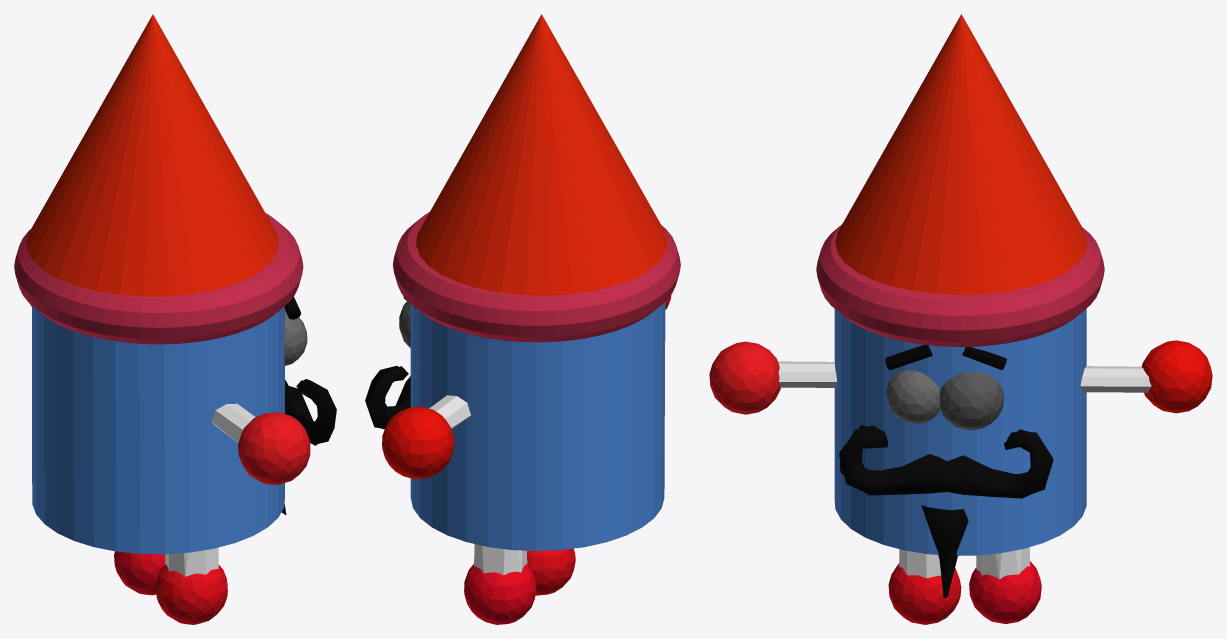
The model's file is гном цвет 1.fbx.
The picture shows the model from 3 angles, left to right: view 1: azimuth 30°, elevation 25°; view 2: azimuth 150°, elevation 25°; view 3: azimuth 270°, elevation 25°; orthographic projection.
Parts seen in each view (by area): view 1: Цилиндр, Конус, Тор.001, Сфера, Сфера.002, node_id30, Сфера.003, Цилиндр.002, Цилиндр.001, Сфера.004; view 2: Цилиндр, Конус, Тор.001, Сфера.001, Сфера.003, node_id30, Сфера.002, Цилиндр.003, Цилиндр.006; view 3: Конус, Цилиндр, Тор.001, node_id30, Сфера, Сфера.001, Сфера.003, Сфера.005, Сфера.002, Сфера.004, Цилиндр.006, Цилиндр.001 (+2 smaller).
Boxes of the visible parts, <box> form: Цилиндр: <box>32,306,284,554</box>; Конус: <box>26,14,278,296</box>; Тор.001: <box>14,213,303,344</box>; Сфера: <box>238,412,310,484</box>; Сфера.002: <box>155,564,227,624</box>; node_id30: <box>281,379,336,514</box>; Сфера.003: <box>114,551,165,595</box>; Цилиндр.002: <box>165,547,218,576</box>; Цилиндр.001: <box>211,403,255,442</box>; Сфера.004: <box>284,310,307,365</box>; Цилиндр: <box>410,302,665,550</box>; Конус: <box>416,14,667,295</box>; Тор.001: <box>393,212,680,342</box>; Сфера.001: <box>382,406,454,479</box>; Сфера.003: <box>464,564,536,624</box>; node_id30: <box>365,366,410,429</box>; Сфера.002: <box>527,548,575,595</box>; Цилиндр.003: <box>474,544,527,575</box>; Цилиндр.006: <box>429,395,470,429</box>; Конус: <box>835,14,1087,294</box>; Цилиндр: <box>834,308,1086,555</box>; Тор.001: <box>816,224,1104,346</box>; node_id30: <box>839,425,1053,598</box>; Сфера: <box>709,341,780,414</box>; Сфера.001: <box>1141,340,1212,413</box>; Сфера.003: <box>969,561,1041,623</box>; Сфера.005: <box>939,372,1003,430</box>; Сфера.002: <box>888,563,961,624</box>; Сфера.004: <box>886,370,940,424</box>; Цилиндр.006: <box>1080,366,1151,392</box>; Цилиндр.001: <box>778,361,837,387</box>.
Bounding box in the file's own units: 233 × 522 × 399.
